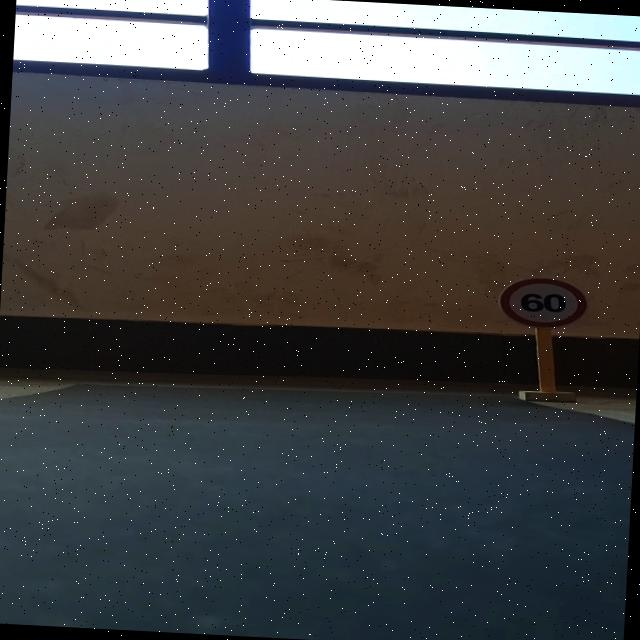Speed60: (494, 272, 594, 332)
